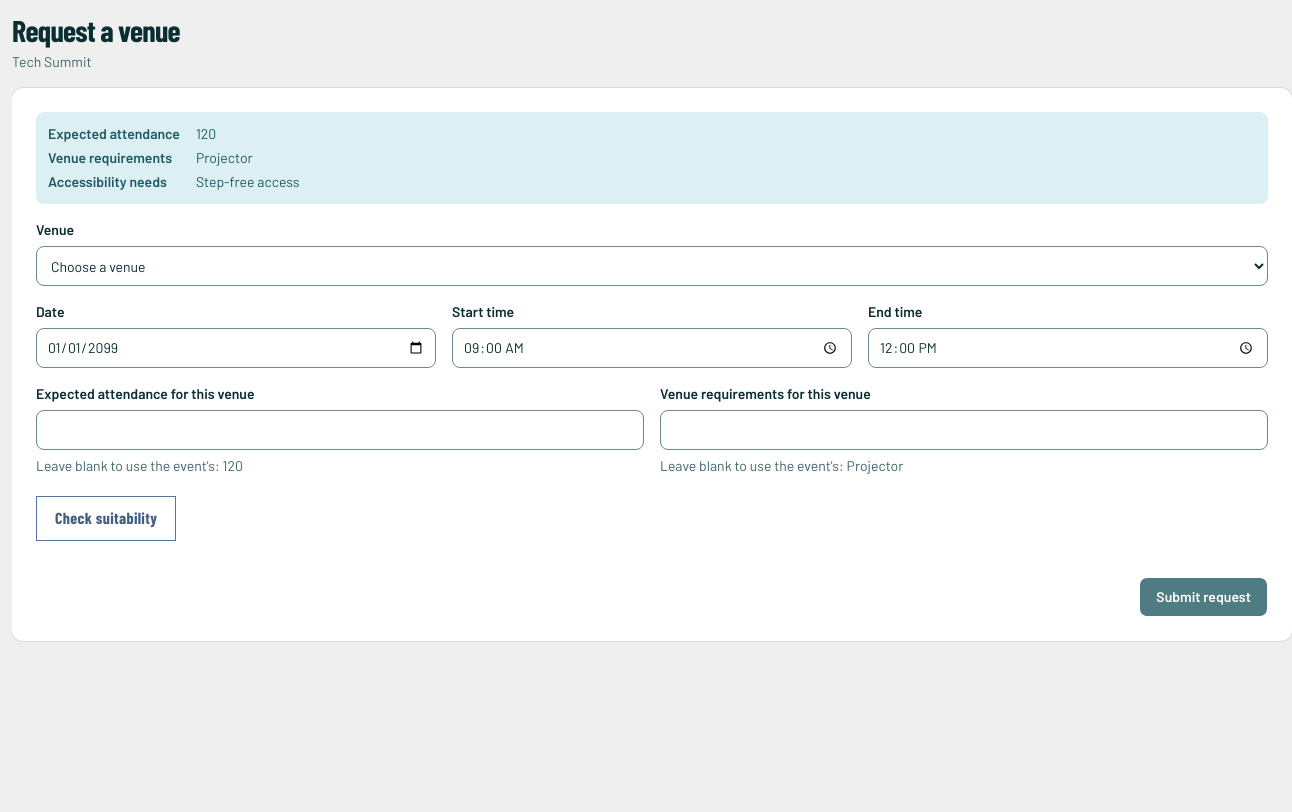
Test: SCRUM-98/AC2 the venue booking's own attendance and requirements (98-S6, 98-S7, 98-S12) › 98-S12 an attendance of -5 shows the shared error and is not sent
This screenshot has width=1292, height=812.
Step 1. Select "Grand Hall (capacity 200)" in the dropdown labelled "Venue" → [652, 266], box [36,246,1268,286]
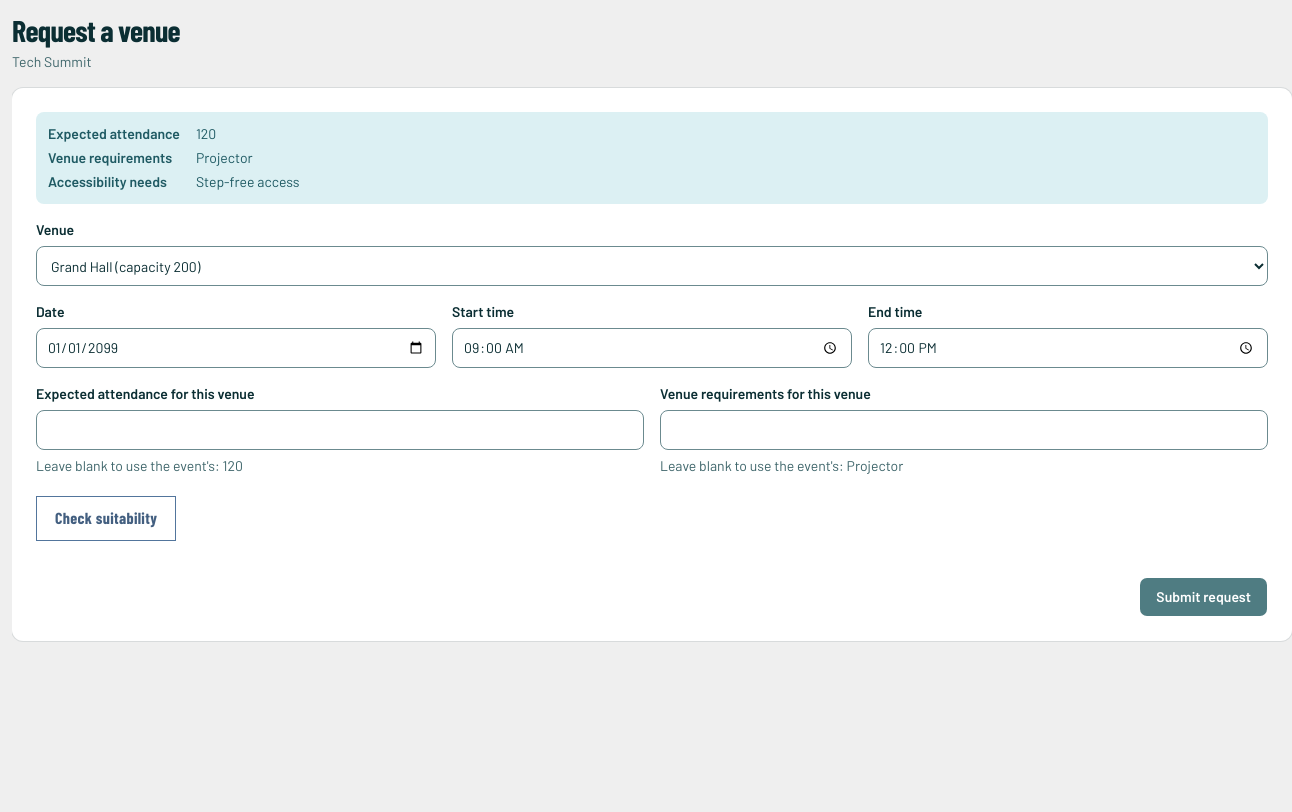
Step 2. Type "-5" into the number field labelled "Expected attendance for this venue" → [340, 430], box [36,410,644,450]
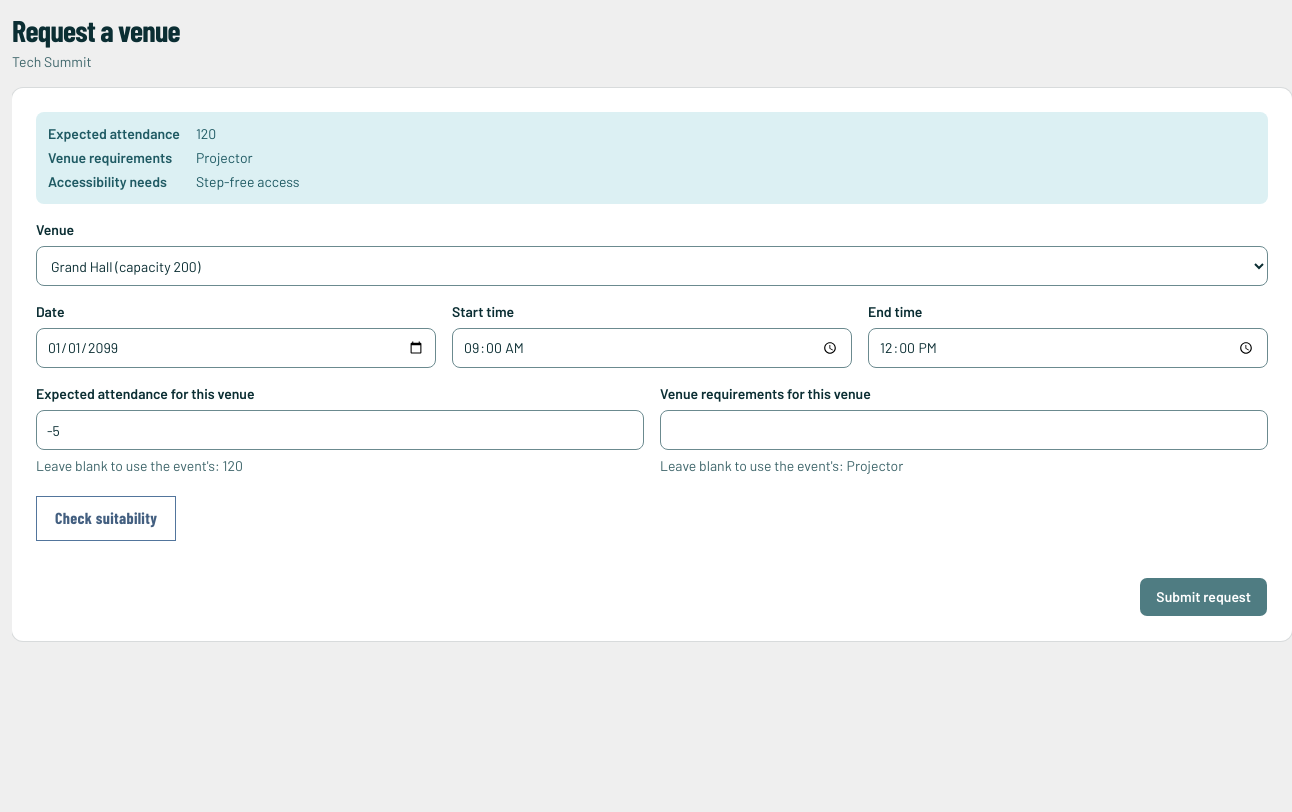
Step 3. Click the button "Submit request" → [1204, 597], box [1139,577,1268,617]
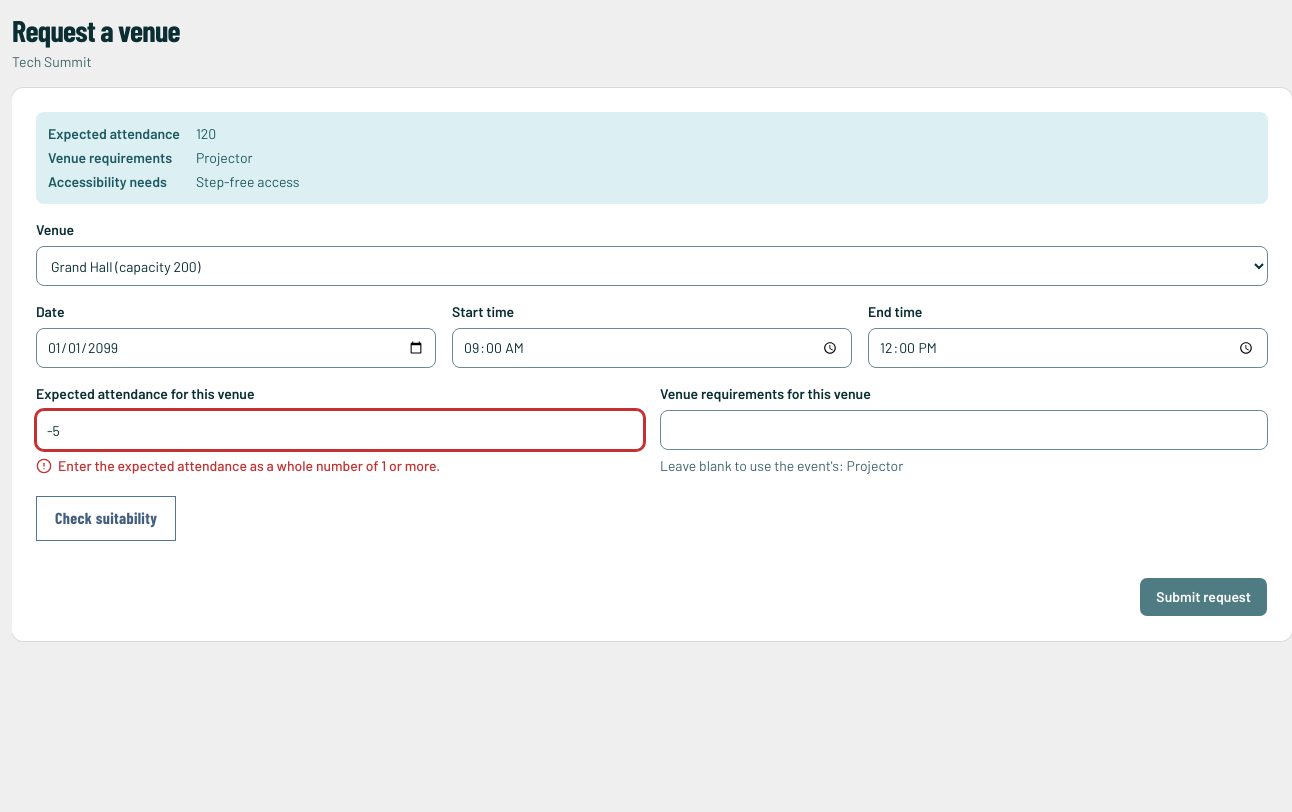
Expected: the text "Enter the expected attendance as a whole number of 1 or more." is shown, [36,457,440,474]
